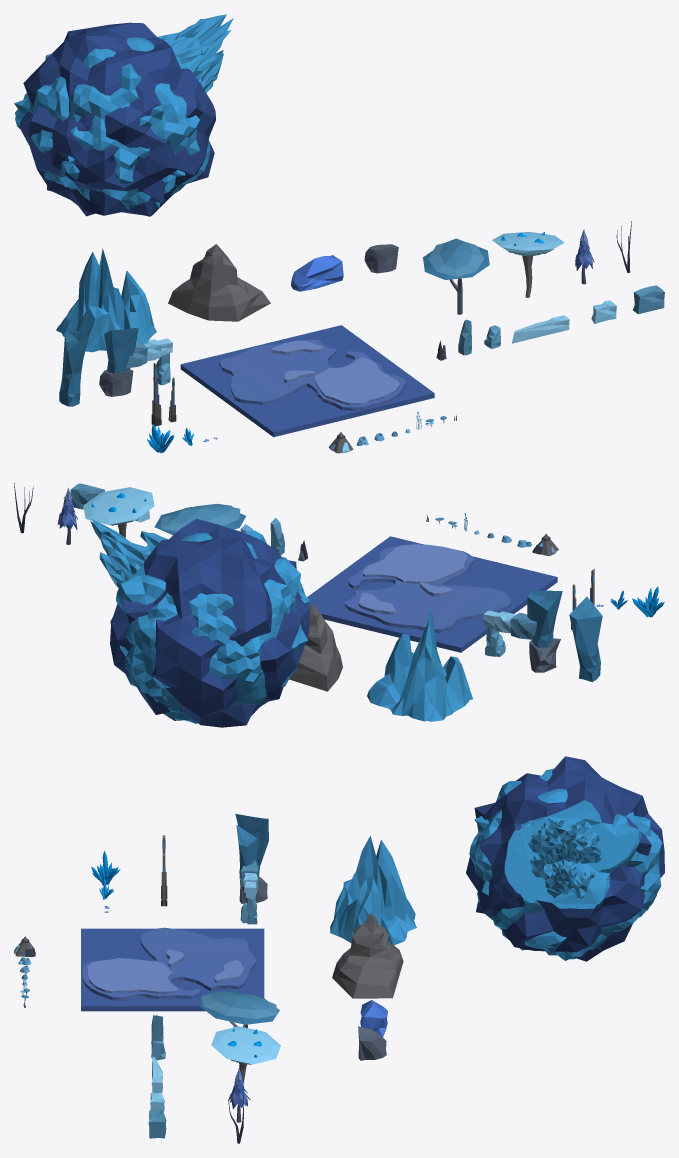
The model's file is alien_environment_assets_lowpoly.glb.
3 views of the same model, one above another, from view 1: azimuth 30°, elevation 25°; view 2: azimuth 150°, elevation 25°; view 3: azimuth 270°, elevation 25° (orthographic). The views are drawn at different scales.
Visible parts, largest first — view 1: SP_Planet, SP_Ground01, SP_Ground02, SP_Mountain01, SP_Mountain02, SP_Rock08, SP_Ground05, SP_Tree01, SP_Rock07, SP_Tree02, SP_Mountain03, SP_Rock06 (+3 smaller); view 2: SP_Planet, SP_Ground01, SP_Mountain01, SP_Ground02, SP_Rock08, SP_Ground05, SP_Mountain02, SP_Tree02, SP_Rock07, SP_Tree01, SP_Tree03, SP_Rock05 (+3 smaller); view 3: SP_Planet, SP_Ground01, SP_Ground02, SP_Mountain01, SP_Mountain02, SP_Ground05, SP_Tree02, SP_Tree01, SP_Rock08, SP_Rock07, SP_Rock06, SP_Mountain03.
Part boxes in pixels (x1,y1,x2,y2): SP_Planet: (14, 14, 233, 216); SP_Ground01: (180, 325, 434, 437); SP_Ground02: (219, 339, 405, 410); SP_Mountain01: (56, 248, 156, 352); SP_Mountain02: (168, 244, 270, 321); SP_Rock08: (99, 328, 172, 396); SP_Ground05: (314, 357, 399, 405); SP_Tree01: (423, 238, 489, 314); SP_Rock07: (59, 330, 88, 406); SP_Tree02: (492, 232, 564, 297); SP_Mountain03: (291, 255, 343, 291); SP_Rock06: (364, 244, 398, 273); SP_Planet: (90, 518, 310, 727); SP_Ground01: (307, 536, 557, 652); SP_Mountain01: (367, 609, 472, 721); SP_Ground02: (344, 546, 510, 632); SP_Rock08: (483, 590, 562, 672); SP_Ground05: (363, 544, 467, 583); SP_Mountain02: (289, 604, 342, 691); SP_Tree02: (83, 487, 154, 537); SP_Rock07: (569, 596, 602, 681); SP_Tree01: (154, 503, 246, 535); SP_Tree03: (57, 487, 77, 544); SP_Rock05: (70, 483, 104, 509); SP_Planet: (466, 756, 664, 961); SP_Ground01: (81, 928, 264, 1011); SP_Ground02: (82, 927, 256, 1000); SP_Mountain01: (330, 835, 416, 945); SP_Mountain02: (332, 913, 403, 998); SP_Ground05: (86, 958, 178, 993); SP_Tree02: (211, 1026, 280, 1083); SP_Tree01: (199, 991, 279, 1062); SP_Rock08: (236, 825, 267, 924); SP_Rock07: (235, 813, 268, 875); SP_Rock06: (358, 1026, 386, 1060); SP_Mountain03: (360, 1000, 387, 1036).
Size of the model in its own units: 35.1 by 12.32 by 35.46.
1 material, 1 textured.
